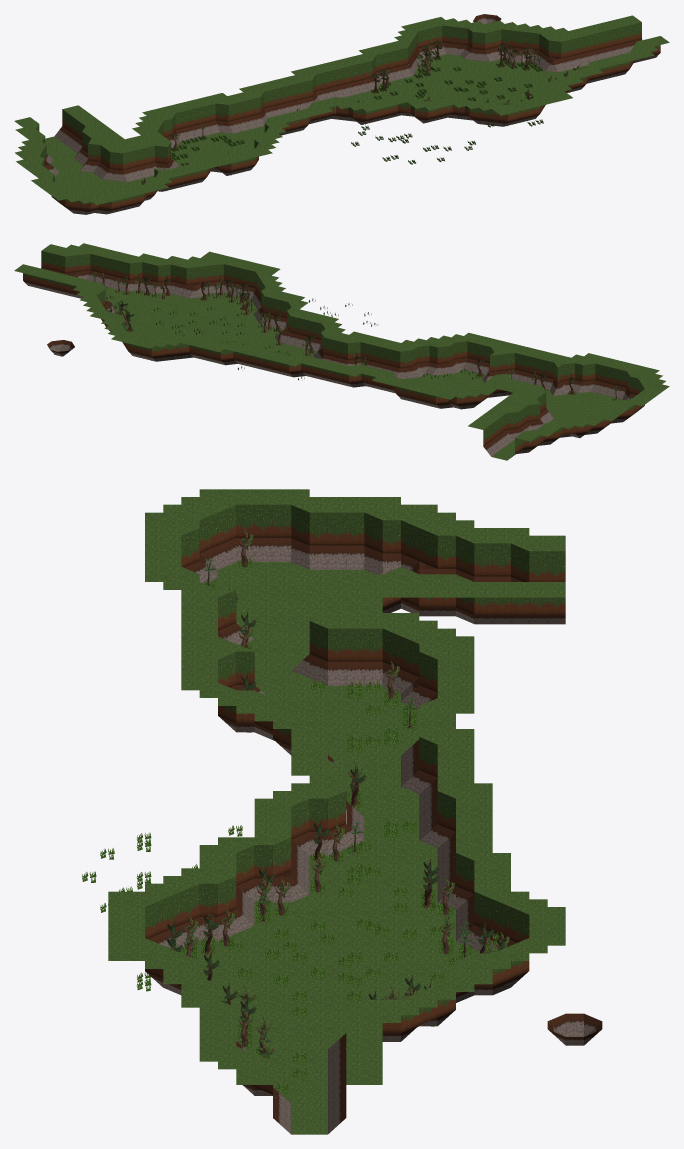
File: forest5.fbx
3 renders of one model, top to bottom at view 1: azimuth 30°, elevation 25°; view 2: azimuth 150°, elevation 25°; view 3: azimuth 270°, elevation 25°, orthographic. The views are drawn at different scales.
Size of the model in its own units: 15400 by 629 by 5692.
Materials: 5 (5 with a texture image).
